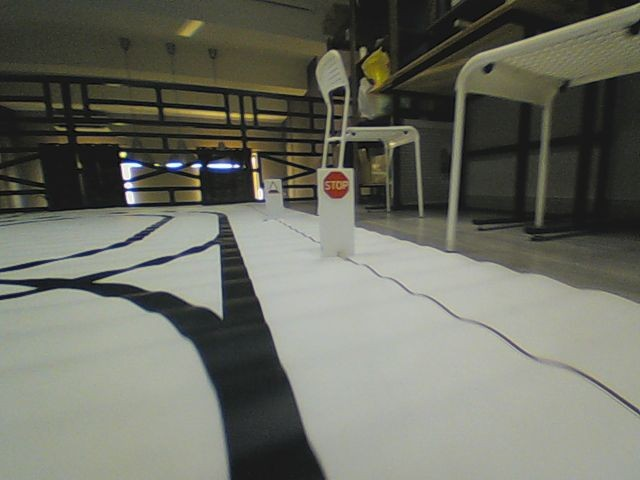Stop: (322, 169, 350, 199)
